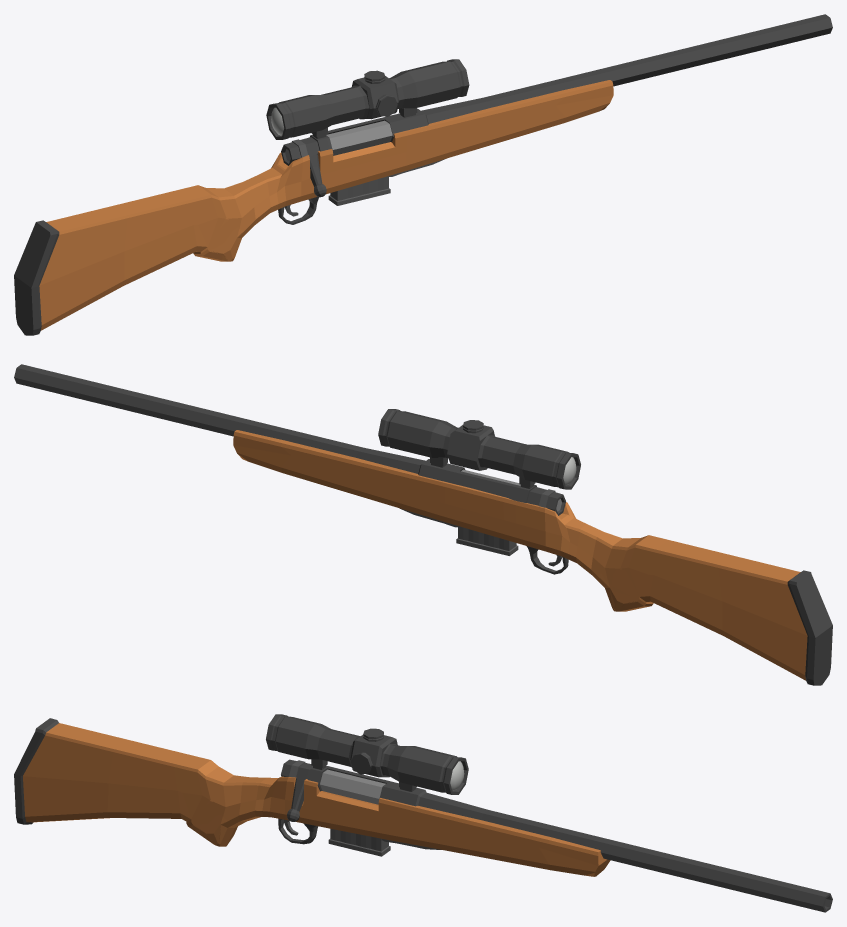
Rendered from Hunting Rifle.glb.
3 renders of one model, top to bottom at view 1: azimuth 30°, elevation 25°; view 2: azimuth 150°, elevation 25°; view 3: azimuth 330°, elevation 25°, orthographic.
Visible parts, largest first — view 1: Body, Barrel, Scope, PullBack, Mag; view 2: Body, Barrel, Scope, Mag, PullBack; view 3: Body, Barrel, Scope, PullBack, Mag.
Part boxes in pixels (x1,y1,x2,y2): Body: (14, 80, 613, 335); Barrel: (310, 14, 832, 151); Scope: (266, 59, 469, 139); PullBack: (281, 120, 392, 197); Mag: (328, 176, 390, 205); Body: (233, 430, 832, 685); Barrel: (14, 364, 536, 502); Scope: (378, 409, 580, 489); Mag: (456, 526, 518, 555); PullBack: (461, 469, 565, 515); Body: (14, 718, 610, 876); Barrel: (307, 765, 832, 912); Scope: (266, 714, 468, 794); PullBack: (281, 759, 385, 821); Mag: (328, 828, 390, 856).
Size of the model in its own units: 11.96 by 2.49 by 0.7035.
